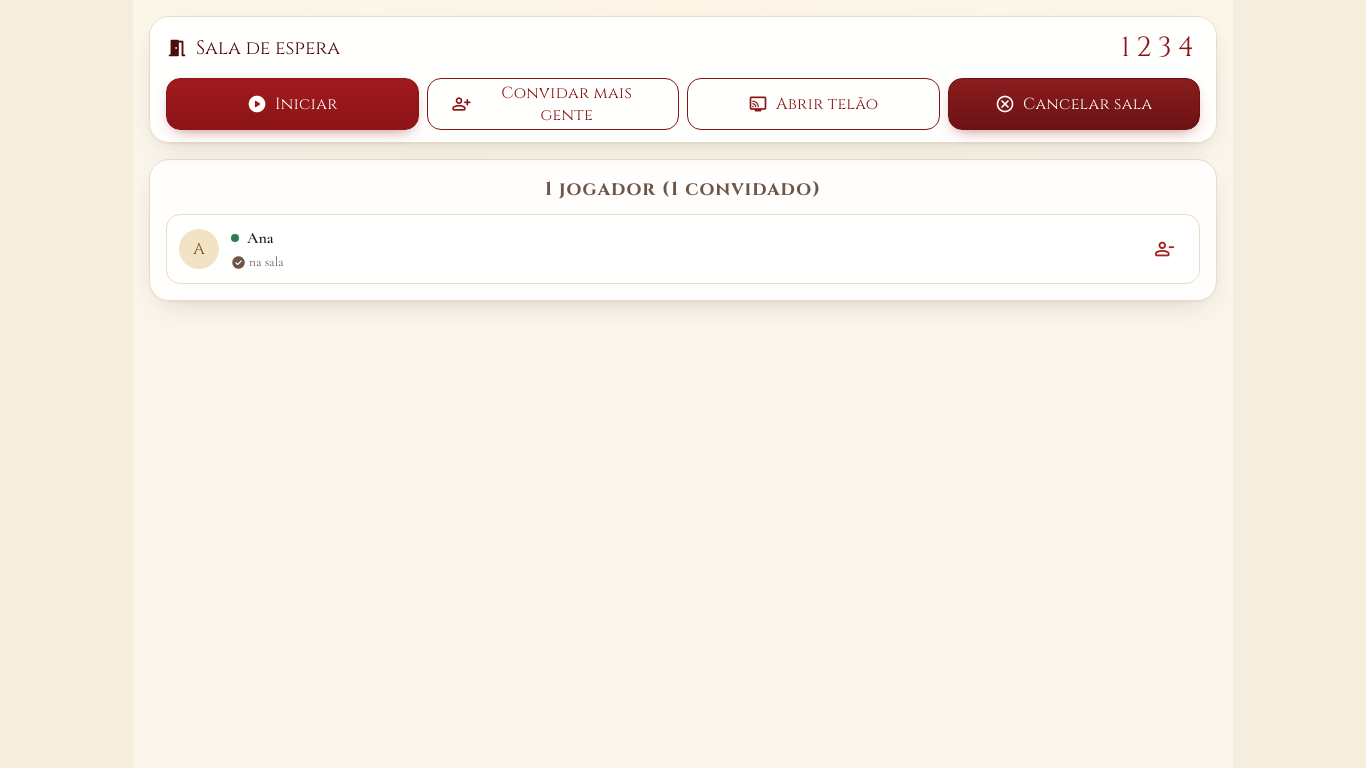
Scenario: PoteLeader — destrutivas e presença › um erro do servidor aparece na barra do líder
Step 1. Click the button "Iniciar" → (292, 104), box [166,78,418,130]
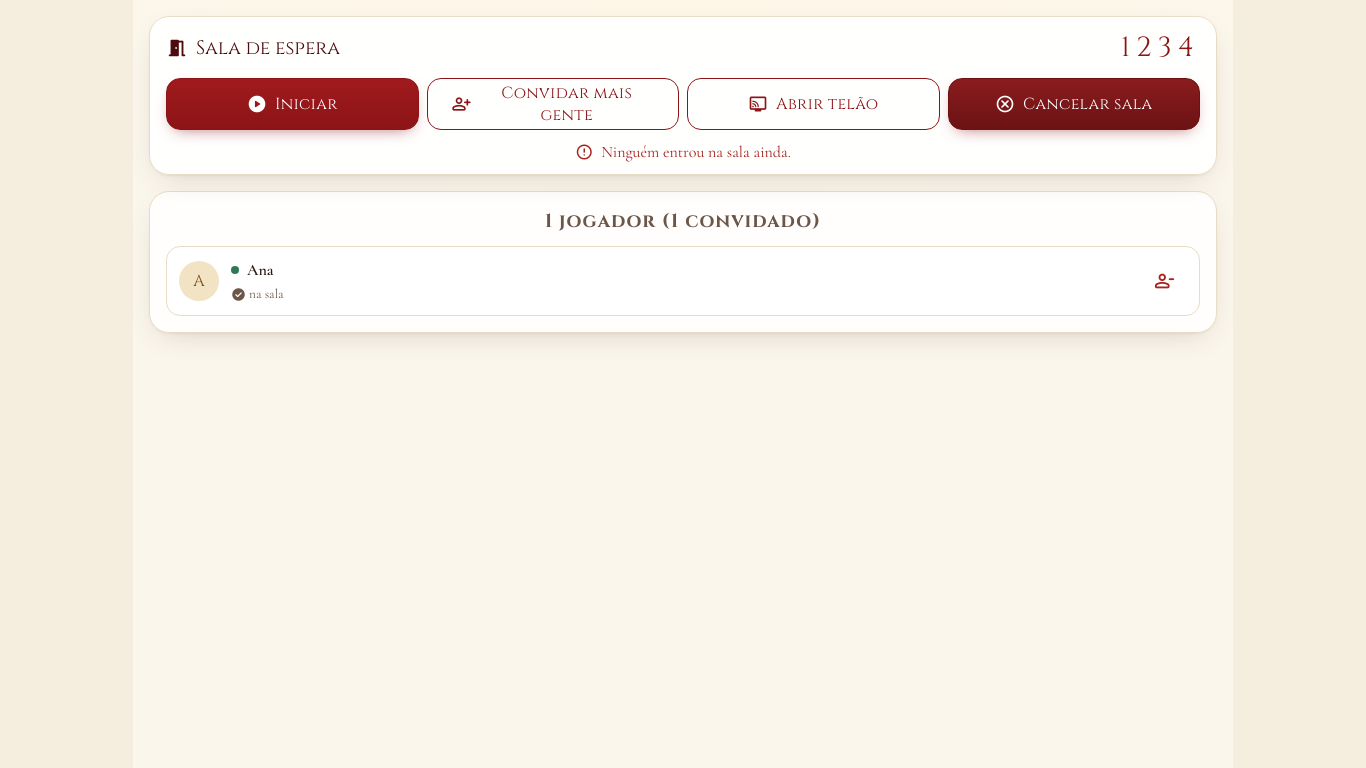
Result: the message reads "Ninguém entrou na sala ainda." at [601,142,791,162]
